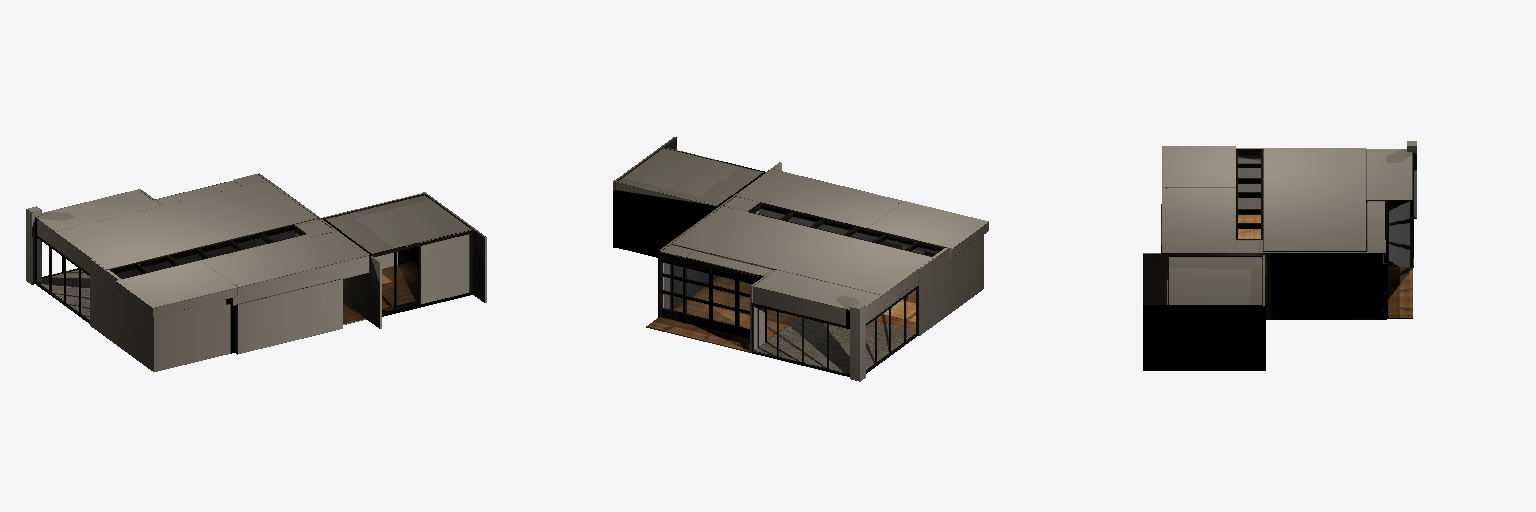
3 views of the same model, side by side, from view 1: azimuth 30°, elevation 25°; view 2: azimuth 150°, elevation 25°; view 3: azimuth 270°, elevation 25° (orthographic).
Visible parts, largest first — view 1: Box009; view 2: Box009; view 3: Box009.
Boxes of the visible parts, x1=… form: Box009: x1=26, y1=173, x2=486, y2=371; Box009: x1=613, y1=137, x2=988, y2=381; Box009: x1=1143, y1=141, x2=1416, y2=370.
Bounding box in the file's own units: 30.59 × 6.51 × 22.43.
Materials: 2 (1 with a texture image).